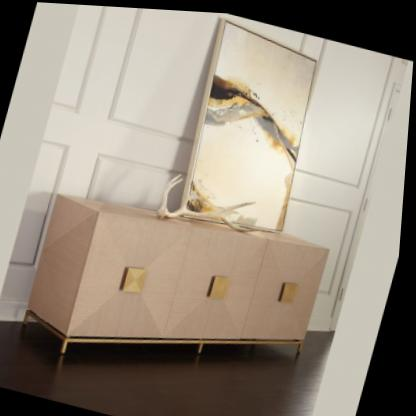Sideboard: (26, 193, 333, 353)
